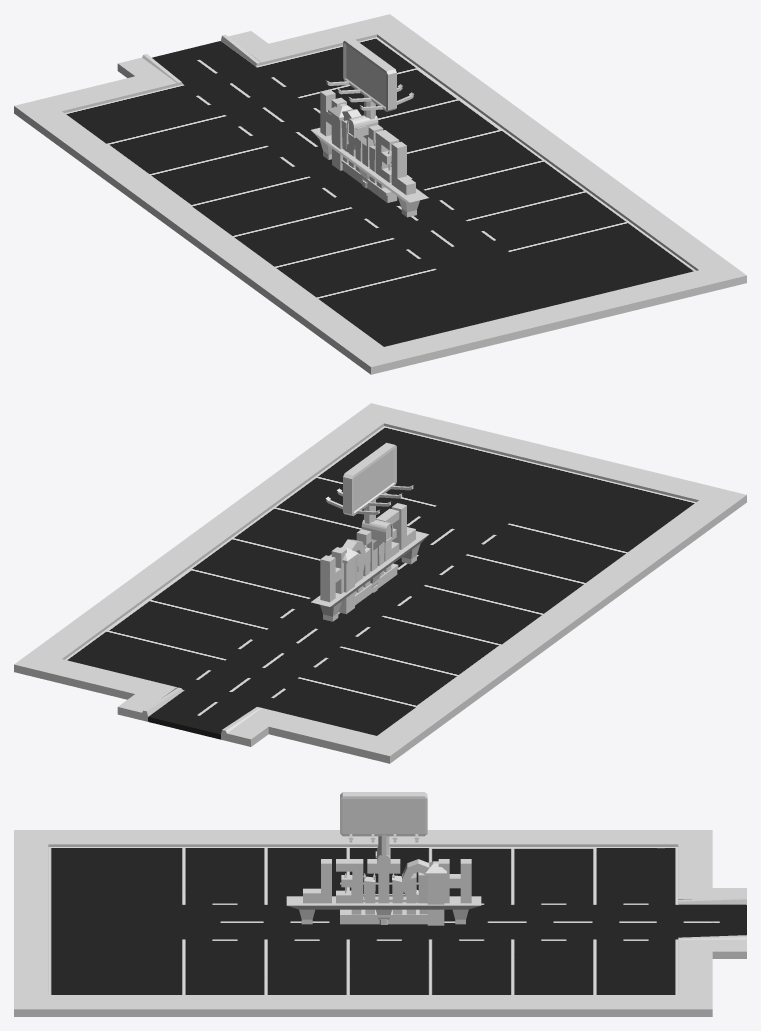
File: city props 2.fbx
The picture shows the model from 3 angles, top to bottom: view 1: azimuth 30°, elevation 25°; view 2: azimuth 150°, elevation 25°; view 3: azimuth 270°, elevation 25°; orthographic projection. The views are drawn at different scales.
Parts seen in each view (by area): view 1: roadForward, roadForwardwalk, beveled_cuboid, cuboid_31, cuboid_37, cuboid_36, brickPhillar, cuboid_32; view 2: roadForward, roadForwardwalk, beveled_cuboid, cuboid_32, cuboid_31, brickPhillar, cuboid_37; view 3: roadForward, roadForwardwalk, beveled_cuboid, cuboid_31, brickPhillar, cuboid_36, cuboid_32, cuboid_37, cuboid, cuboid_35, cuboid_1, cuboid_34.
Boxes of the visible parts, box(x1,y1,x2,y2) form: roadForward: box(65, 37, 696, 346); roadForwardwalk: box(14, 14, 746, 374); beveled_cuboid: box(343, 38, 396, 111); cuboid_31: box(311, 127, 428, 202); cuboid_37: box(391, 141, 415, 195); cuboid_36: box(375, 130, 399, 182); brickPhillar: box(328, 103, 352, 170); cuboid_32: box(320, 89, 346, 140); roadForward: box(64, 426, 695, 739); roadForwardwalk: box(14, 403, 746, 763); beveled_cuboid: box(343, 442, 396, 516); cuboid_32: box(320, 547, 346, 602); cuboid_31: box(311, 531, 428, 606); brickPhillar: box(329, 547, 358, 614); cuboid_37: box(391, 503, 415, 549); roadForward: box(48, 847, 746, 994); roadForwardwalk: box(14, 830, 746, 1016); beveled_cuboid: box(340, 792, 427, 836); cuboid_31: box(286, 896, 481, 909); brickPhillar: box(425, 861, 446, 925); cuboid_36: box(336, 859, 363, 903); cuboid_32: box(438, 859, 471, 903); cuboid_37: box(303, 859, 331, 903); cuboid: box(340, 917, 427, 924); cuboid_35: box(367, 859, 400, 903); cuboid_1: box(340, 909, 427, 917); cuboid_34: box(402, 859, 418, 902).
Size of the model in its own units: 1938 by 669 by 3344.
1 material, 1 textured.
